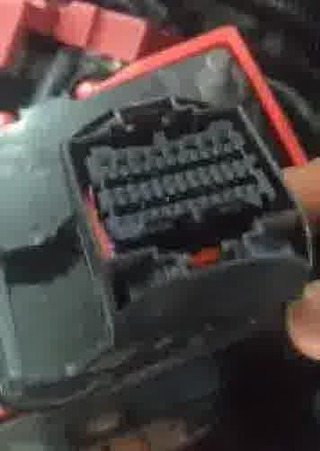connector: (60, 94, 313, 348)
